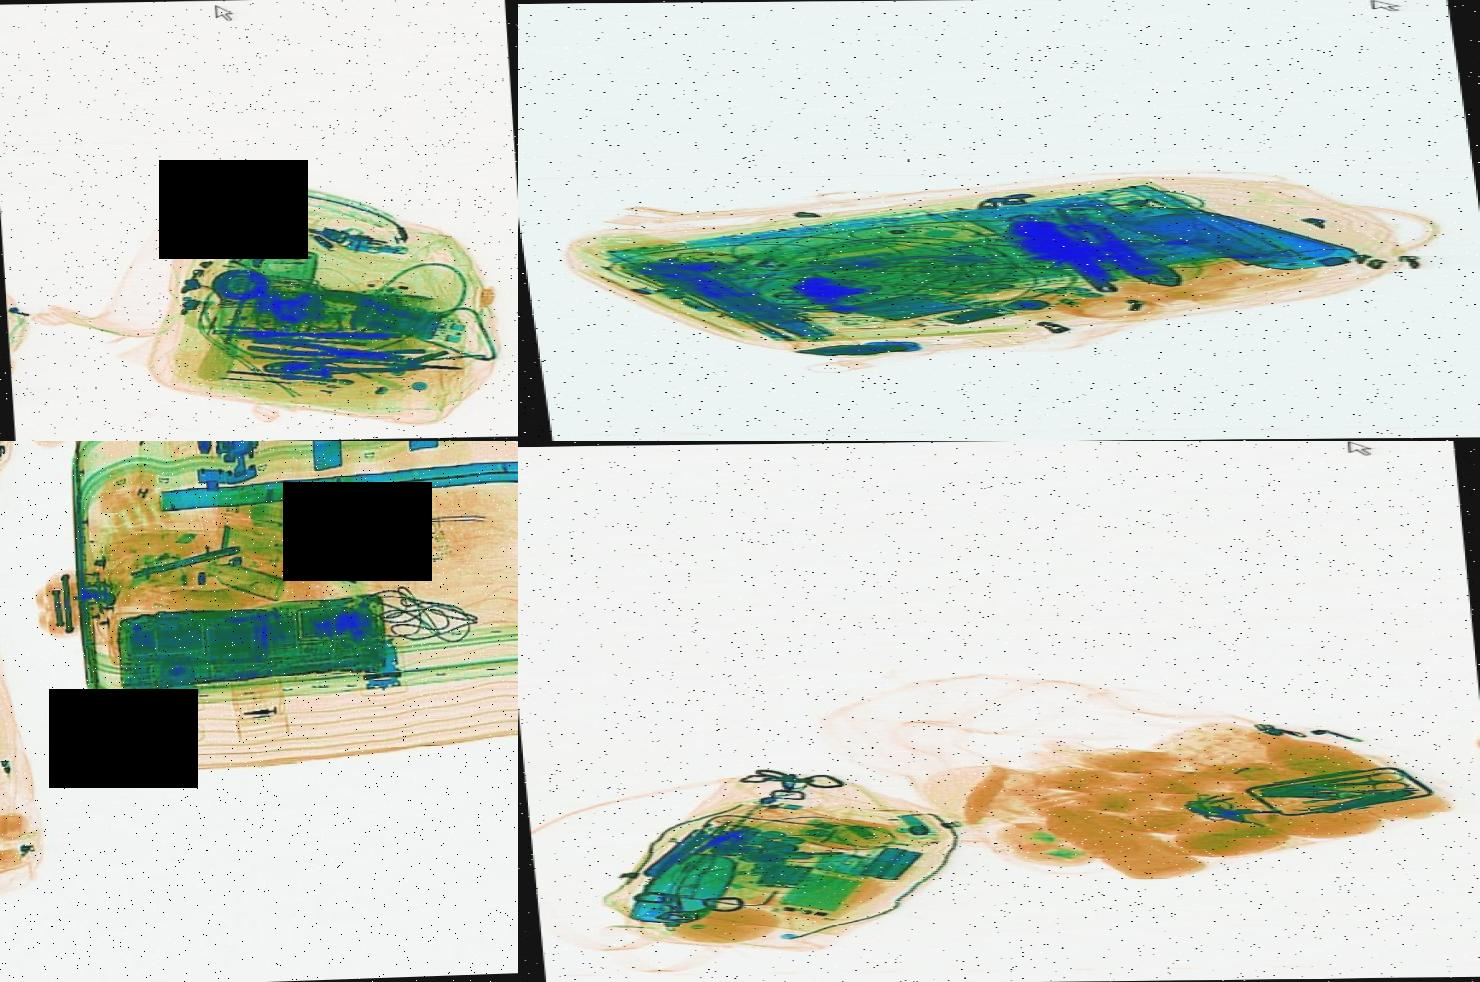Pliers: (1035, 217, 1200, 294), (242, 331, 403, 368), (259, 346, 424, 379)
Scissors: (1289, 766, 1414, 804)
